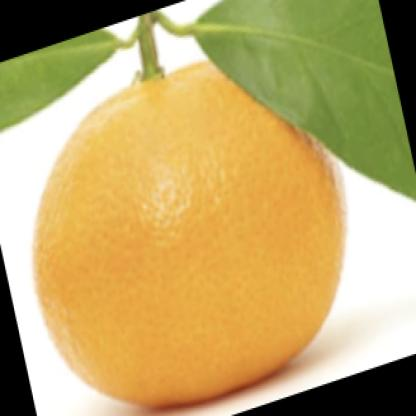fresh: (40, 64, 342, 409)
